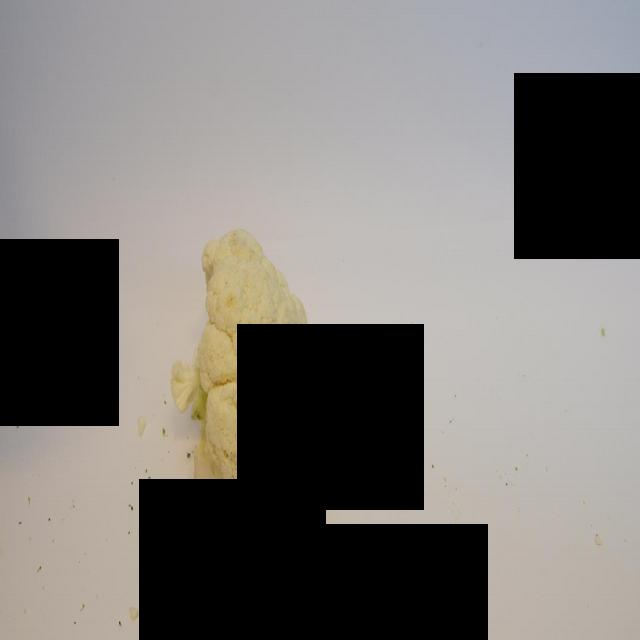cauliflower: (159, 220, 341, 537)
